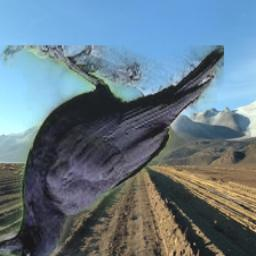Crow: (0, 45, 225, 256)
